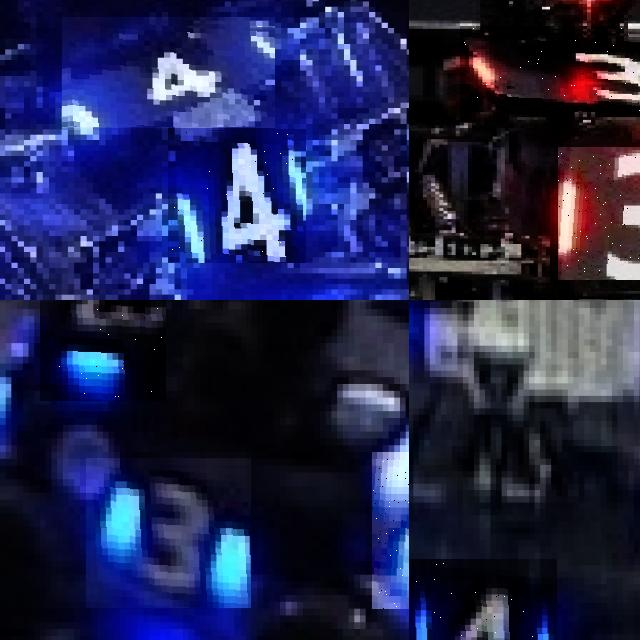B3: (86, 458, 251, 608), (40, 300, 165, 400), (371, 452, 409, 608)
B4: (62, 18, 275, 130), (168, 129, 306, 263), (409, 558, 556, 640)
R3: (460, 26, 640, 111), (558, 147, 640, 279)
